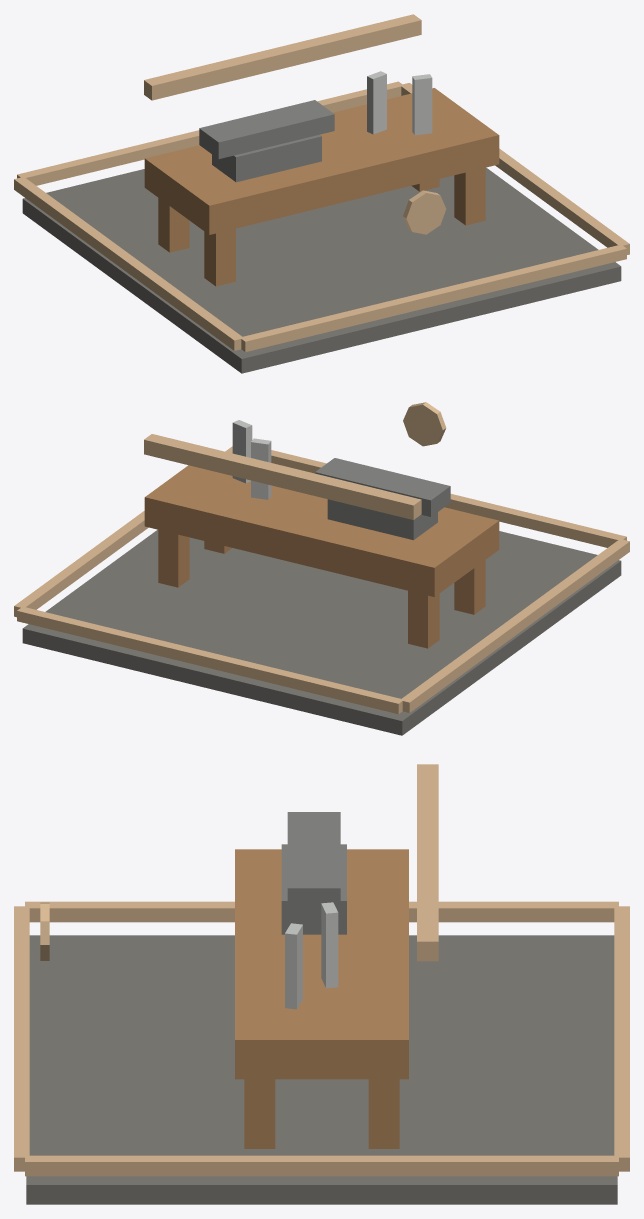
The model's file is t2_toolmaker.glb.
The picture shows the model from 3 angles, top to bottom: view 1: azimuth 30°, elevation 25°; view 2: azimuth 150°, elevation 25°; view 3: azimuth 270°, elevation 25°; orthographic projection. The views are drawn at different scales.
Visible parts, largest first — view 1: FootprintBase, Workbench, TierFrontTrim, ToolRack, TierLeftTrim, AnvilTop, TierBackTrim, AnvilBody, TierRightTrim, BenchLeg, BenchLeg.002, TierEmblem (+3 smaller); view 2: FootprintBase, Workbench, TierBackTrim, ToolRack, TierLeftTrim, TierFrontTrim, AnvilTop, TierRightTrim, AnvilBody, BenchLeg.001, BenchLeg.003, TierEmblem (+3 smaller); view 3: FootprintBase, Workbench, TierRightTrim, TierLeftTrim, AnvilTop, ToolRack, TierFrontTrim, TierBackTrim, BenchLeg.002, BenchLeg.003, AnvilBody, ToolBlankA (+1 smaller).
Boxes of the visible parts, bbox=[...] form: FootprintBase: bbox=[22, 167, 621, 373]; Workbench: bbox=[144, 88, 499, 234]; TierFrontTrim: bbox=[240, 245, 626, 351]; ToolRack: bbox=[144, 14, 421, 100]; TierLeftTrim: bbox=[14, 177, 242, 350]; AnvilTop: bbox=[199, 100, 334, 158]; TierBackTrim: bbox=[17, 81, 403, 185]; AnvilBody: bbox=[212, 134, 321, 182]; TierRightTrim: bbox=[401, 83, 629, 254]; BenchLeg: bbox=[204, 228, 235, 286]; BenchLeg.002: bbox=[454, 167, 485, 225]; TierEmblem: bbox=[403, 190, 446, 234]; FootprintBase: bbox=[22, 529, 621, 735]; Workbench: bbox=[144, 465, 499, 596]; TierBackTrim: bbox=[17, 606, 403, 714]; ToolRack: bbox=[144, 434, 421, 519]; TierLeftTrim: bbox=[400, 539, 629, 712]; TierFrontTrim: bbox=[271, 450, 626, 547]; AnvilTop: bbox=[315, 458, 450, 516]; TierRightTrim: bbox=[14, 446, 232, 617]; AnvilBody: bbox=[327, 499, 437, 540]; BenchLeg.001: bbox=[408, 590, 439, 648]; BenchLeg.003: bbox=[158, 530, 189, 587]; TierEmblem: bbox=[403, 402, 446, 446]; FootprintBase: bbox=[26, 935, 617, 1204]; Workbench: bbox=[235, 849, 408, 1079]; TierRightTrim: bbox=[25, 1155, 618, 1176]; TierLeftTrim: bbox=[25, 901, 618, 922]; AnvilTop: bbox=[287, 812, 340, 910]; ToolRack: bbox=[417, 764, 438, 961]; TierFrontTrim: bbox=[14, 906, 29, 1171]; TierBackTrim: bbox=[614, 906, 629, 1171]; BenchLeg.002: bbox=[244, 1079, 275, 1148]; BenchLeg.003: bbox=[368, 1079, 399, 1148]; AnvilBody: bbox=[281, 844, 346, 934]; ToolBlankA: bbox=[321, 902, 338, 988].
Size of the model in its own units: 3.96 by 1.61 by 3.96.
